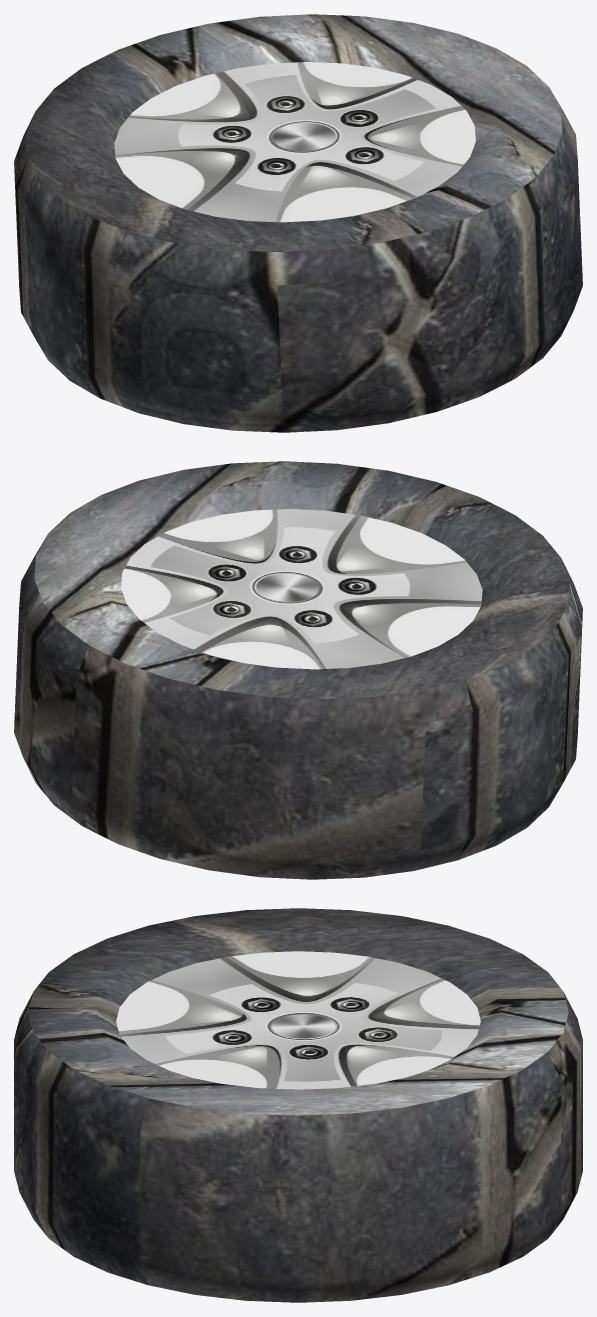
Rendered from Llanta4.fbx.
The picture shows the model from 3 angles, top to bottom: view 1: azimuth 30°, elevation 25°; view 2: azimuth 150°, elevation 25°; view 3: azimuth 270°, elevation 25°; orthographic projection.
Visible parts, largest first — view 1: Llanta4; view 2: Llanta4; view 3: Llanta4.
Part boxes in pixels (x1,y1,x2,y2): Llanta4: (14, 14, 582, 432); Llanta4: (14, 461, 582, 879); Llanta4: (14, 908, 582, 1302).
Size of the model in its own units: 80.78 by 31.7 by 80.
